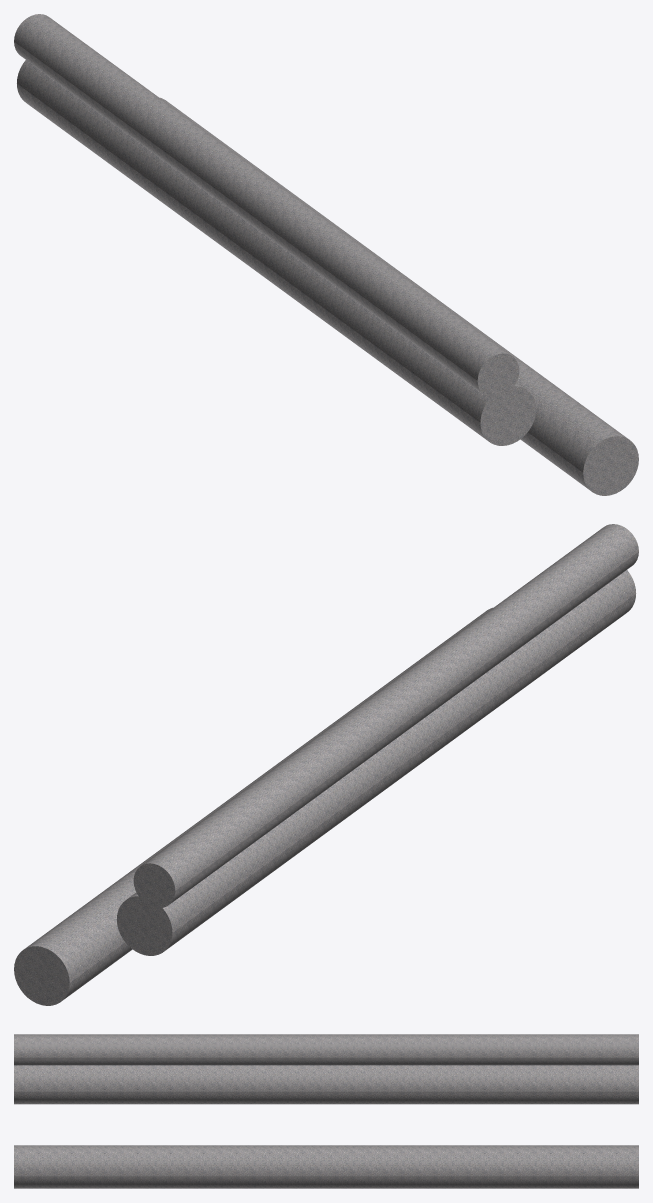
3 renders of one model, top to bottom at view 1: azimuth 30°, elevation 25°; view 2: azimuth 150°, elevation 25°; view 3: azimuth 270°, elevation 25°, orthographic. The views are drawn at different scales.
Visible parts, largest first — view 1: 0_2_0_3_0_3_1_0; view 2: 0_2_0_3_0_3_1_0; view 3: 0_2_0_3_0_3_1_0.
Part boxes in pixels (x1,y1,x2,y2): 0_2_0_3_0_3_1_0: (14,14,638,495); 0_2_0_3_0_3_1_0: (14,524,638,1005); 0_2_0_3_0_3_1_0: (14,1034,638,1188).
Bounding box in the file's own units: 2.32 × 2.32 × 11.53.
Materials: 3 (3 with a texture image).
